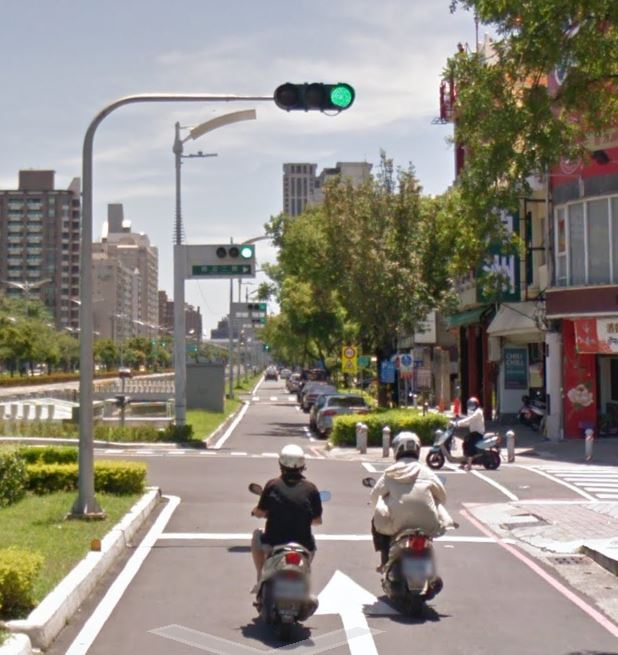Traffic_light_green: (271, 78, 358, 118), (214, 244, 254, 259)
motorcycle: (240, 481, 331, 639), (361, 467, 449, 616), (425, 417, 502, 472)
